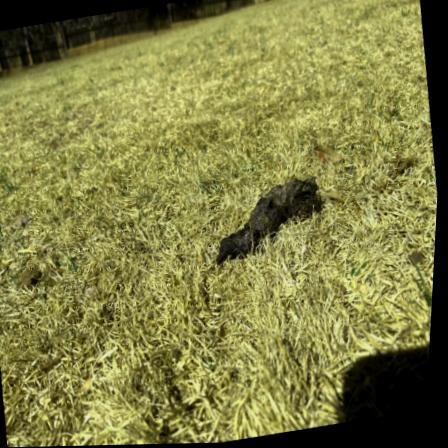dog-poop: (199, 160, 336, 264)
